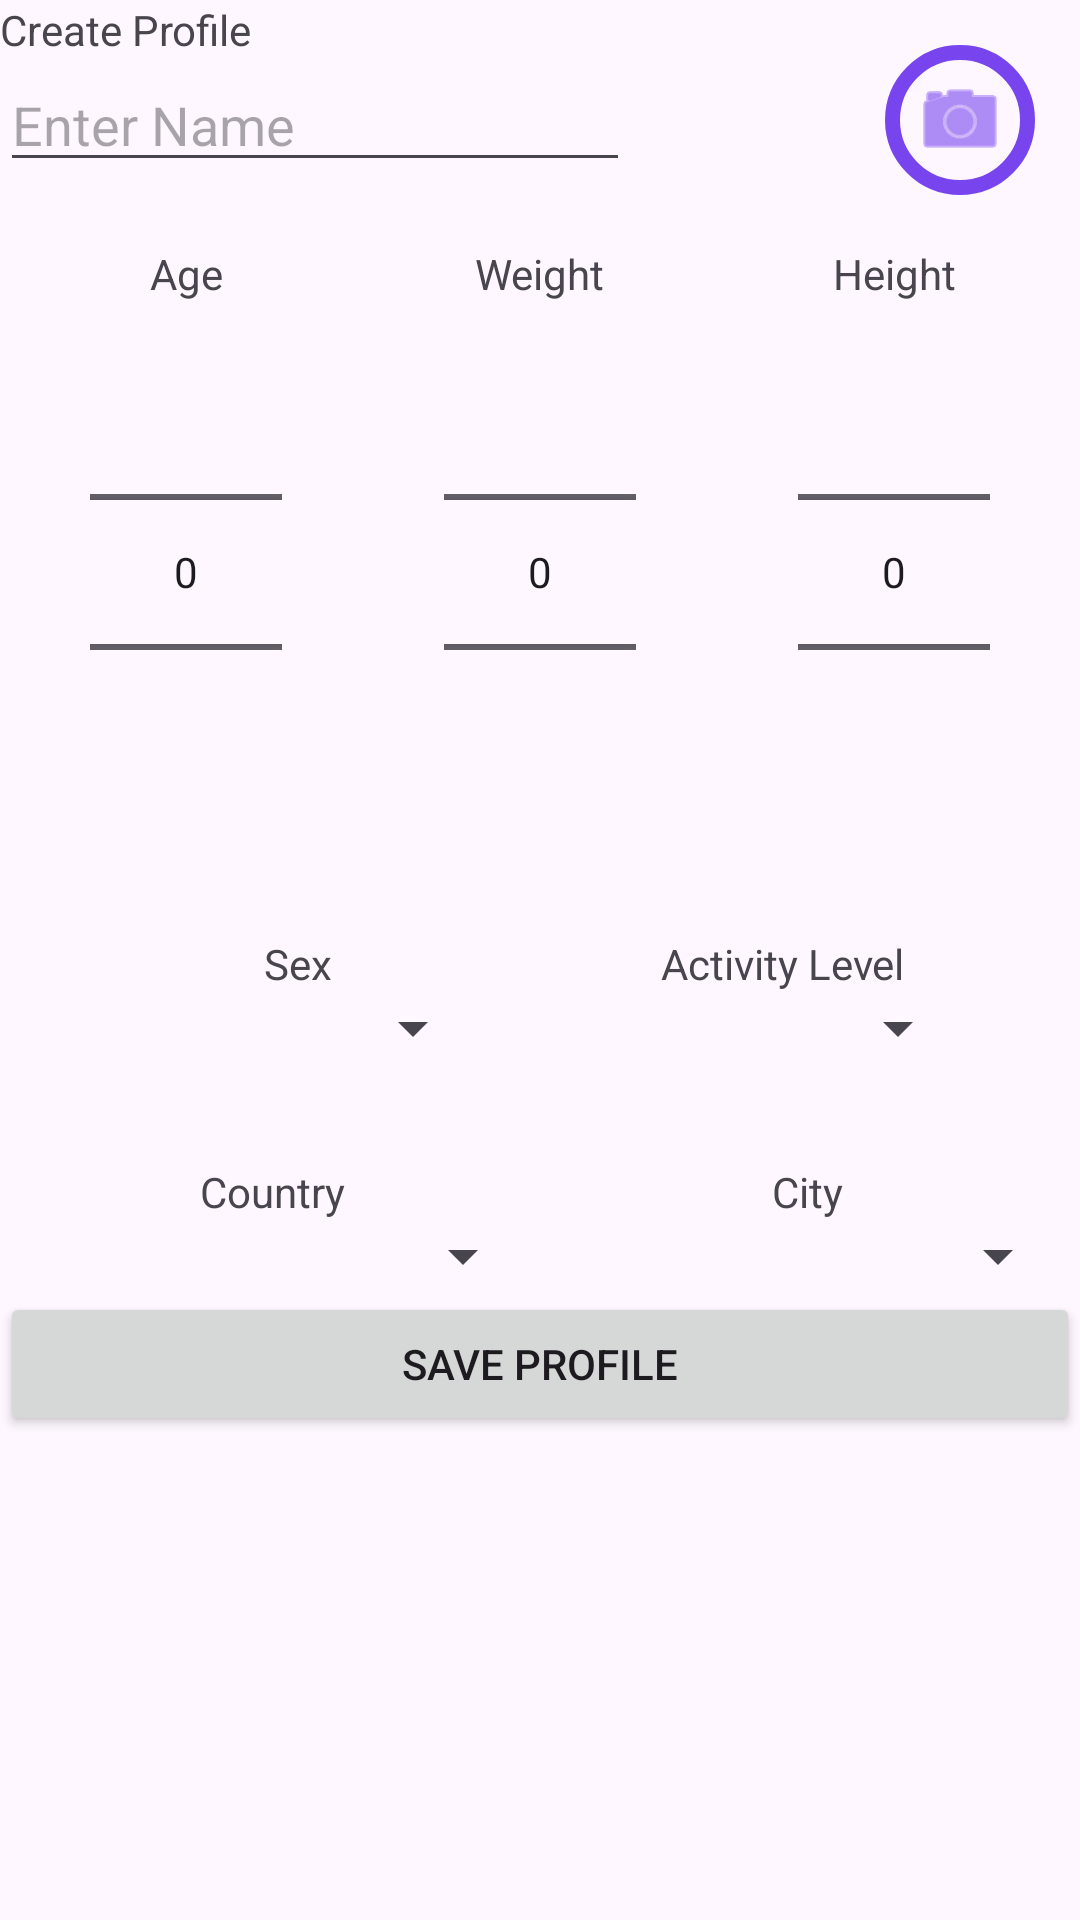

Named icons in this screenshot (1080px×1920px) and their centers, point (x, y):
camera: point (960, 120)
